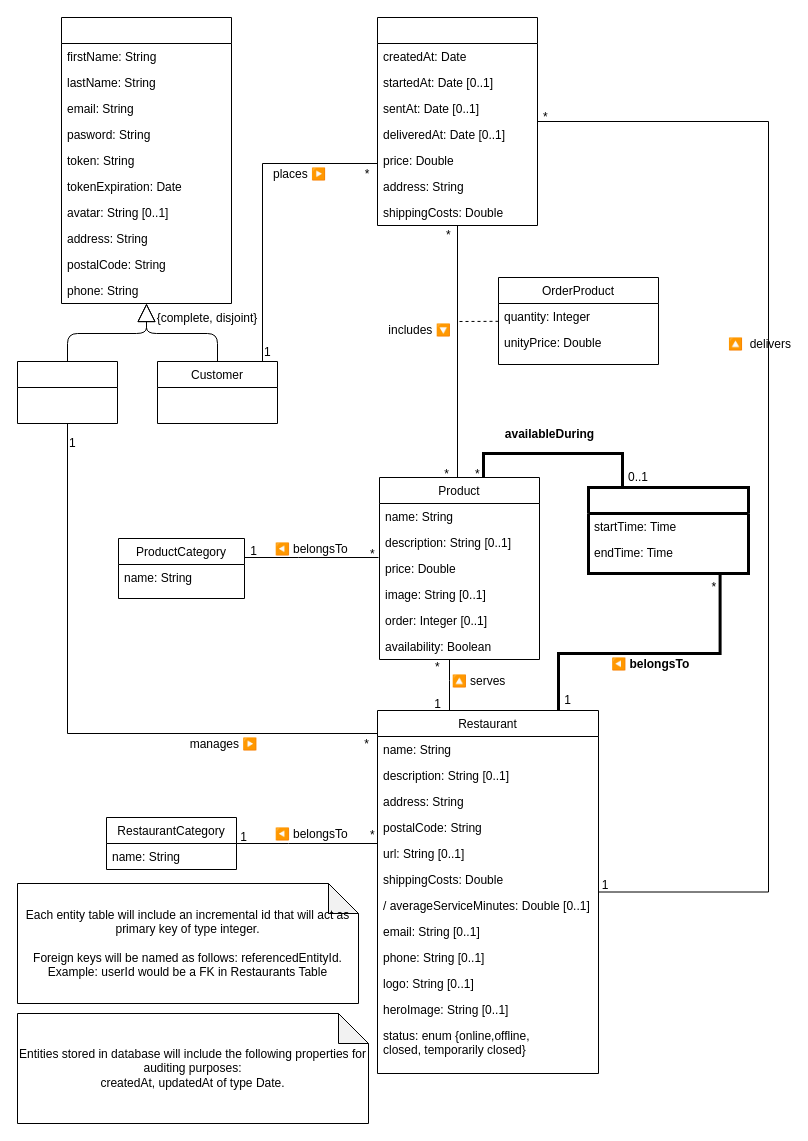
Image size: 808x1141. Some labels were removed from this diagram. Here are the shapes that lost their labels. From the top down, the box of each, then its label:
(376, 16, 538, 226): Order
(60, 16, 232, 304): User
(16, 360, 118, 424): Owner
(586, 486, 750, 574): Schedule
